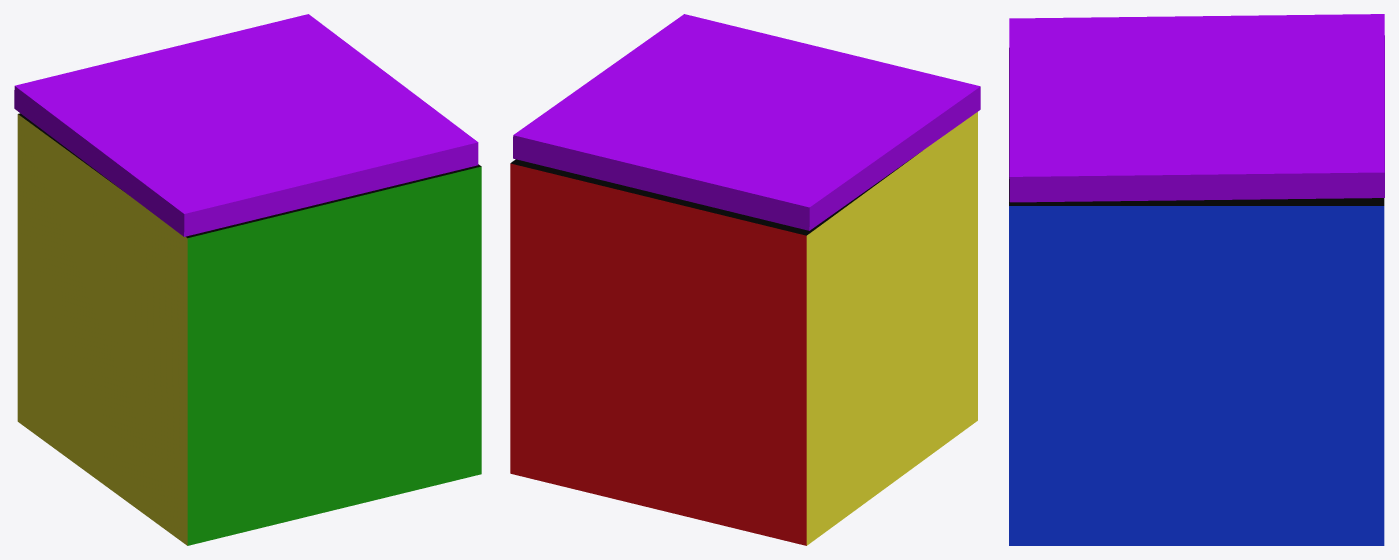
The model's file is JackInTheBox13.fbx.
3 renders of one model, left to right at view 1: azimuth 30°, elevation 25°; view 2: azimuth 150°, elevation 25°; view 3: azimuth 270°, elevation 25°, orthographic. The views are drawn at different scales.
Visible parts, largest first — view 1: Box, Lid; view 2: Box, Lid; view 3: Box, Lid.
Part boxes in pixels (box(x1,y1,x2,y2)): Box: box(17, 113, 481, 545); Lid: box(14, 14, 478, 236); Box: box(510, 112, 977, 545); Lid: box(513, 14, 980, 230); Box: box(1009, 48, 1384, 545); Lid: box(1009, 14, 1384, 202).
Size of the model in its own units: 80.84 by 87.5 by 80.15.
